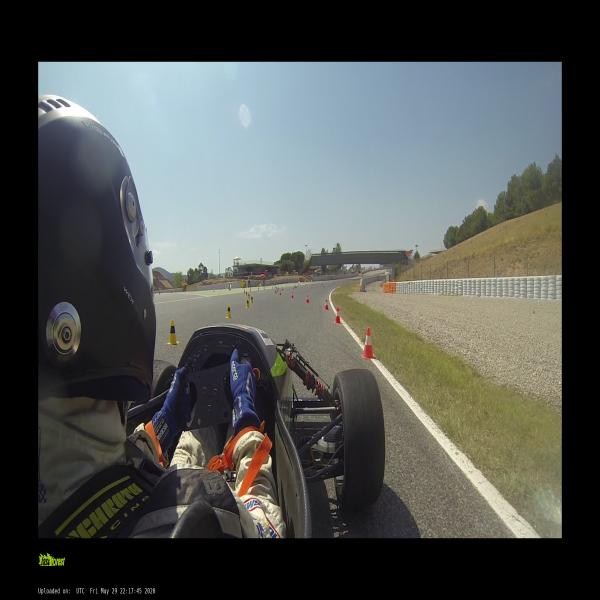orange_cone: (363, 327, 373, 358), (335, 307, 341, 323), (326, 299, 328, 309), (306, 295, 308, 302), (292, 292, 293, 298), (280, 290, 281, 295)
yellow_cone: (167, 320, 179, 344), (225, 304, 232, 318), (245, 298, 250, 308), (251, 296, 253, 303), (248, 293, 250, 299), (246, 291, 247, 296), (244, 290, 245, 294)
